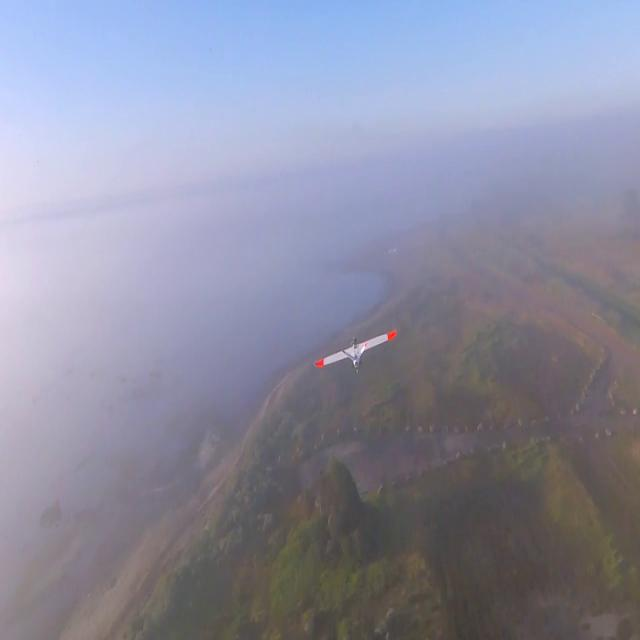iha: (346, 327, 366, 378)
